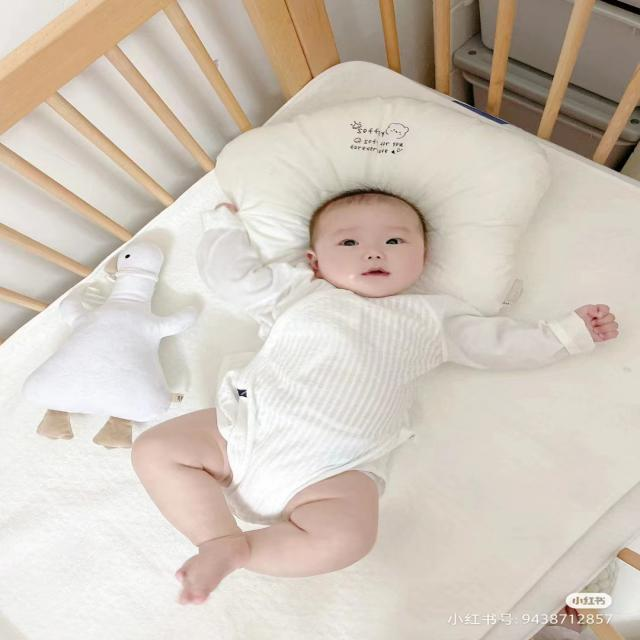baby: (129, 189, 620, 606)
